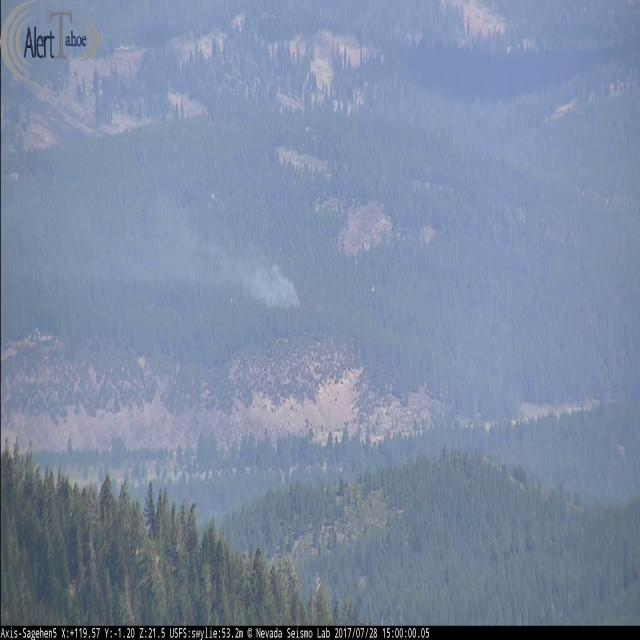smoke: (228, 243, 301, 312)
